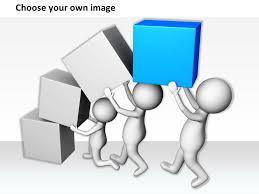cube: (133, 20, 200, 87), (39, 67, 89, 126), (20, 111, 75, 164)
